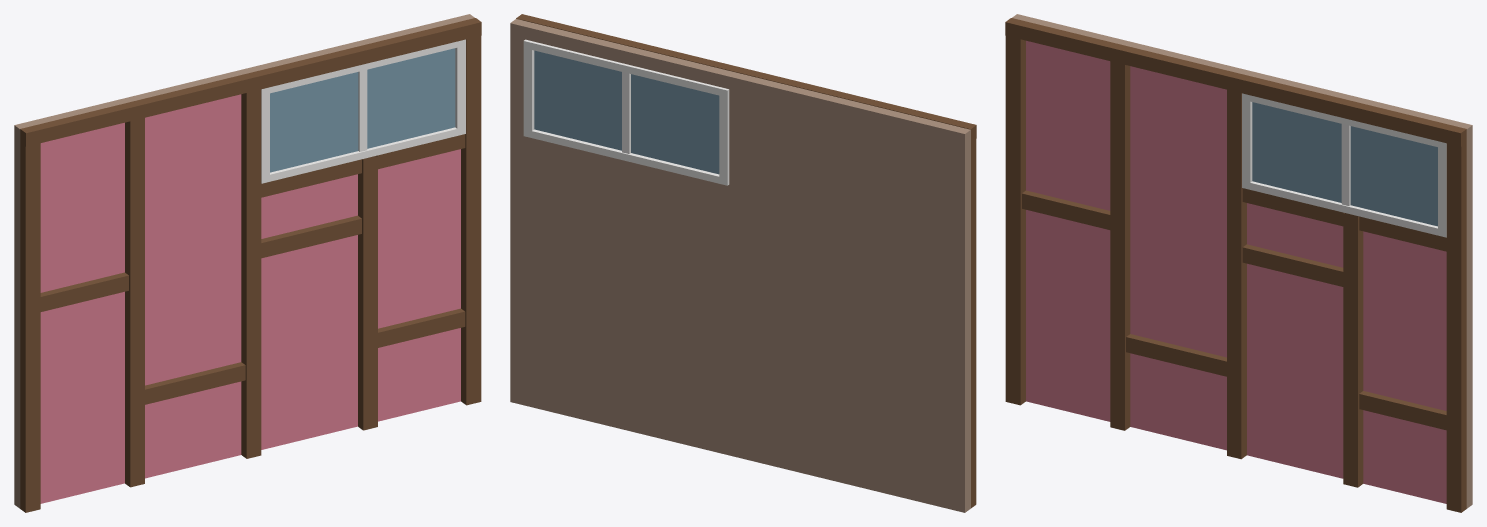
File: Wall_24.fbx
3 renders of one model, left to right at view 1: azimuth 30°, elevation 25°; view 2: azimuth 150°, elevation 25°; view 3: azimuth 330°, elevation 25°, orthographic.
Visible parts, largest first — view 1: Wall_24; view 2: Wall_24; view 3: Wall_24.
Part boxes in pixels (box(x1,y1,x2,y2)): Wall_24: box(14, 14, 481, 512); Wall_24: box(510, 14, 976, 512); Wall_24: box(1005, 14, 1472, 512).
Size of the model in its own units: 489 by 25.43 by 390.
